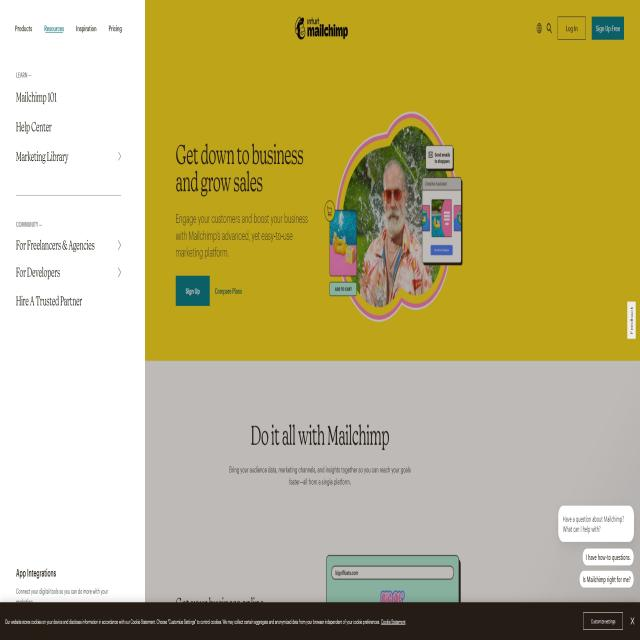menu-bar: (523, 14, 629, 46)
menu-panel: (12, 19, 134, 330)
